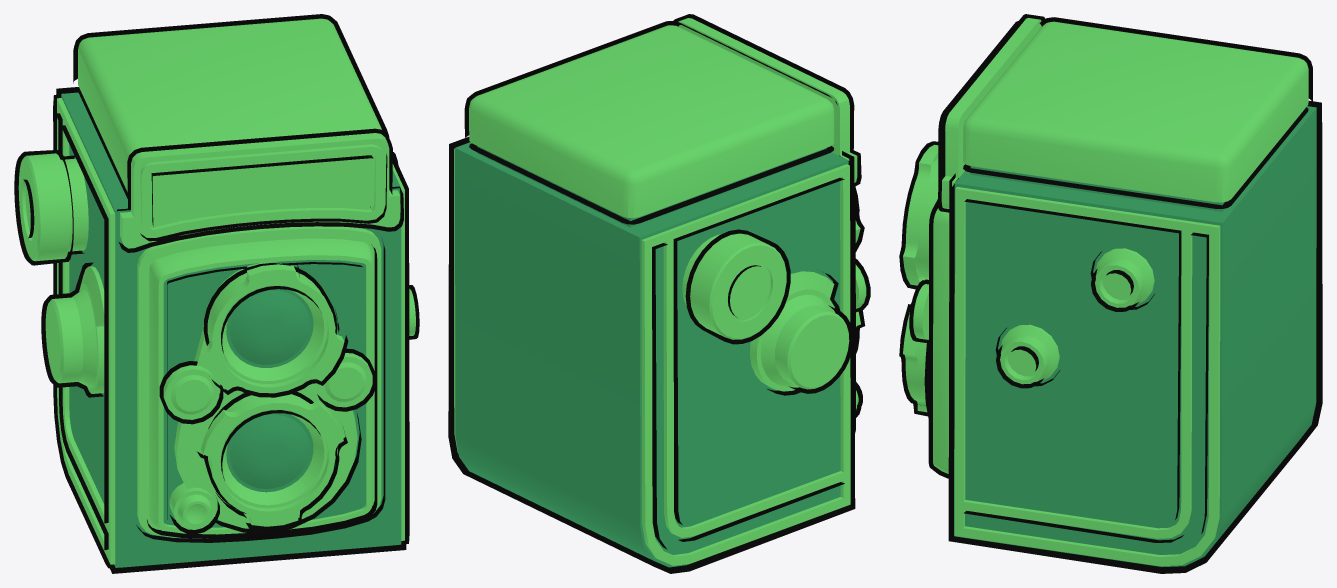
File: culture_02.glb
The picture shows the model from 3 angles, left to right: view 1: azimuth 30°, elevation 25°; view 2: azimuth 150°, elevation 25°; view 3: azimuth 270°, elevation 25°; orthographic projection. The views are drawn at different scales.
Parts seen in each view (by area): view 1: camera, frame, camera_outline, frame_outline; view 2: frame, camera, camera_outline, frame_outline; view 3: frame, camera, camera_outline, frame_outline.
Part boxes in pixels (x1,y1,x2,y2): camera: (18, 18, 415, 564); frame: (61, 92, 401, 567); camera_outline: (14, 14, 419, 568); frame_outline: (56, 87, 406, 573); frame: (455, 142, 848, 567); camera: (454, 18, 866, 565); camera_outline: (464, 14, 870, 569); frame_outline: (448, 136, 855, 573); frame: (954, 106, 1316, 567); camera: (903, 18, 1308, 566); camera_outline: (899, 14, 1312, 570); frame_outline: (932, 100, 1322, 573).
Bounding box in the file's own units: 0.9309 × 1.05 × 0.9626.
